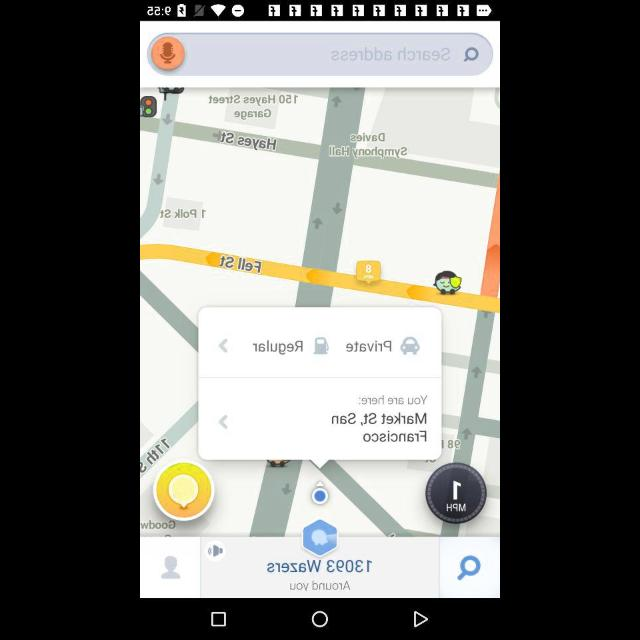icon: (301, 520, 339, 558), (151, 34, 183, 70), (455, 554, 481, 582), (158, 556, 182, 580), (311, 610, 329, 628), (205, 542, 225, 558), (211, 610, 227, 628), (461, 47, 479, 63), (412, 611, 428, 627)
input: (150, 36, 492, 74)
map: (140, 88, 500, 536)
panel: (142, 537, 498, 597), (142, 598, 498, 638)
text: (266, 558, 374, 574), (329, 48, 451, 62), (289, 579, 351, 593)
toolbar: (142, 20, 498, 86)
uppertaskbar: (142, 1, 498, 20)
